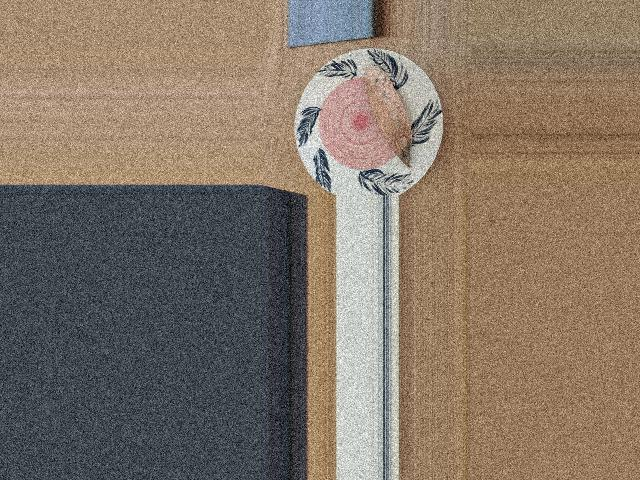sweet_potato: (361, 71, 412, 157)
